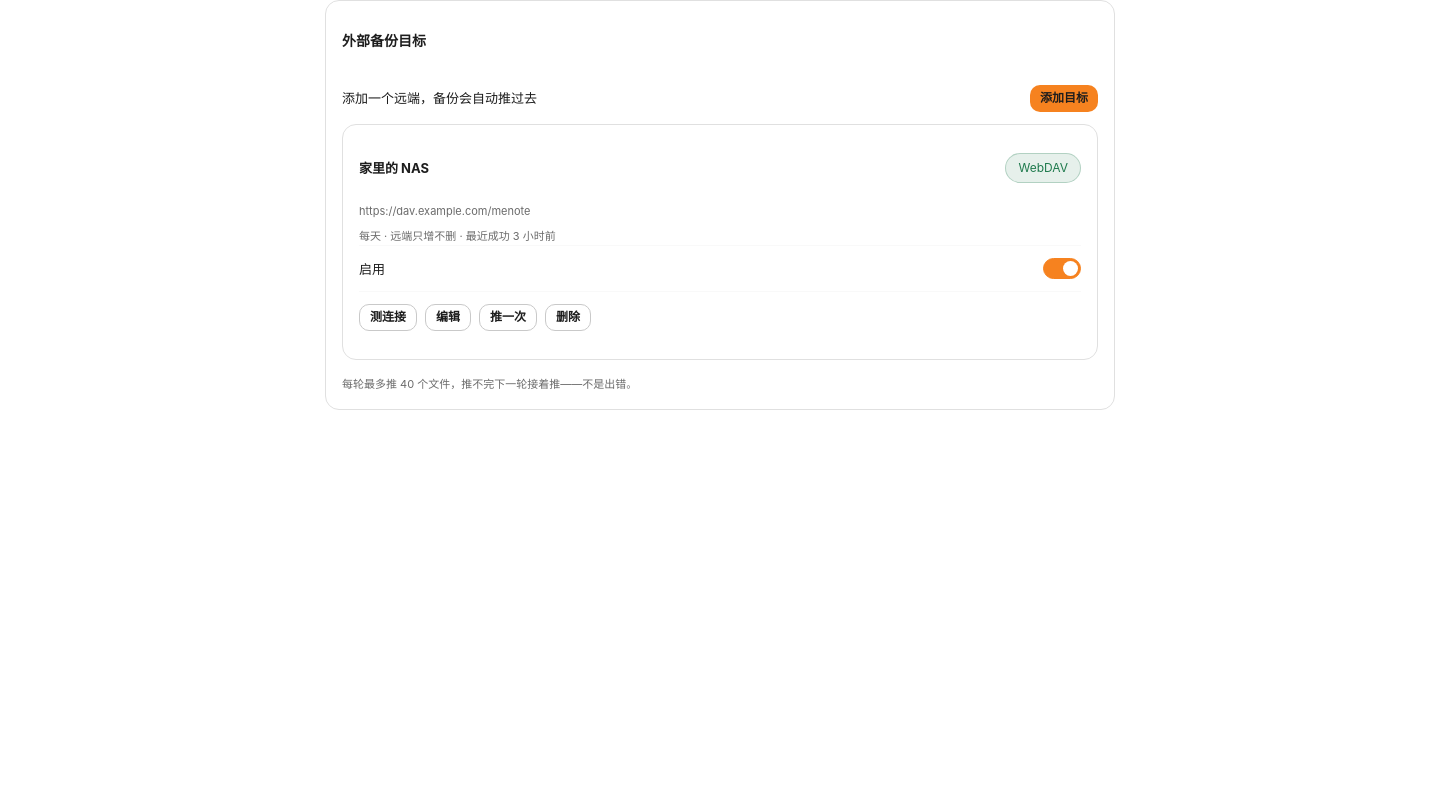
Test: 外部备份目标 · 界面 › 类型在编辑态置灰，并给出原因（不可只置灰）
Expected: the text "家里的 NAS" is shown, [359,158,429,178]
Click the button "编辑" at point(448, 318), box [425,304,471,331]
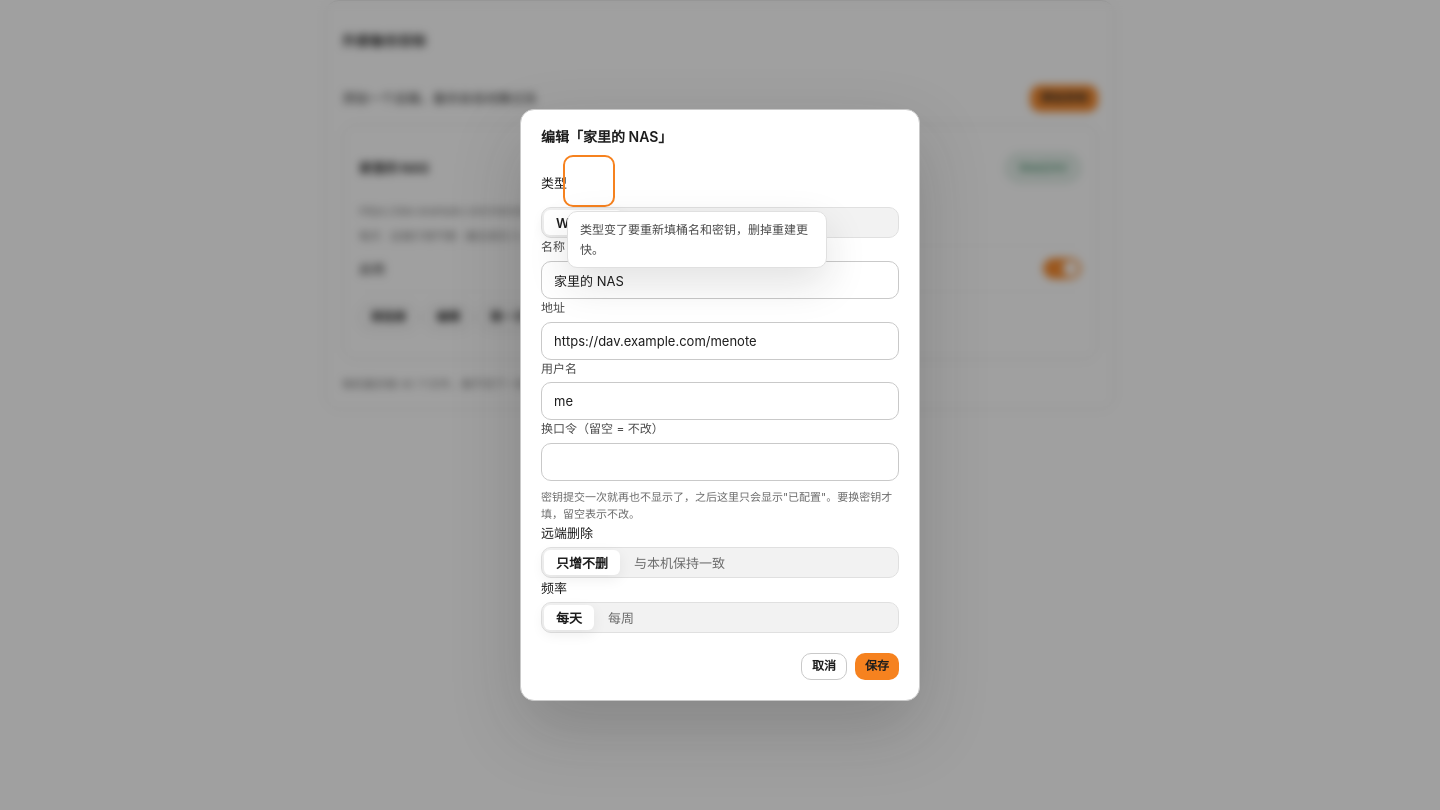
Result: the button "WebDAV" is disabled at [544,210,623,236]
